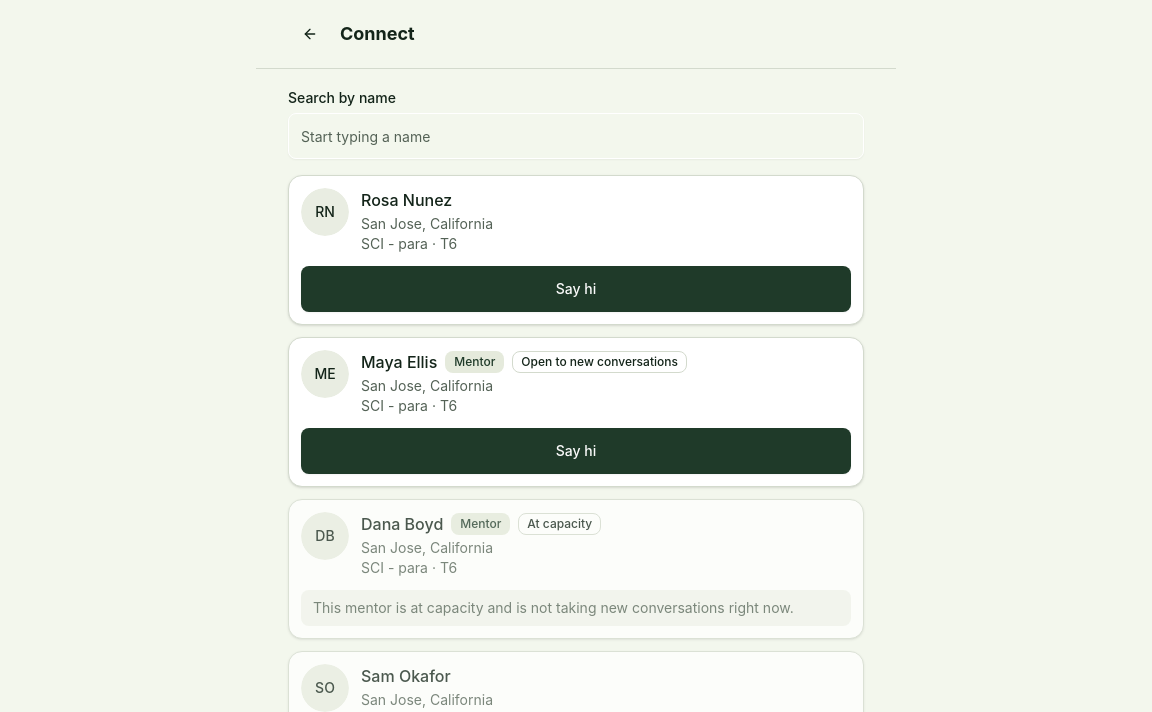
it: ConnectPage › keeps "Say hi" to a single tap, with nothing to fill in
Click the button with aria-label "Say hi to Rosa Nunez" at (576, 289), box [301,266,851,312]
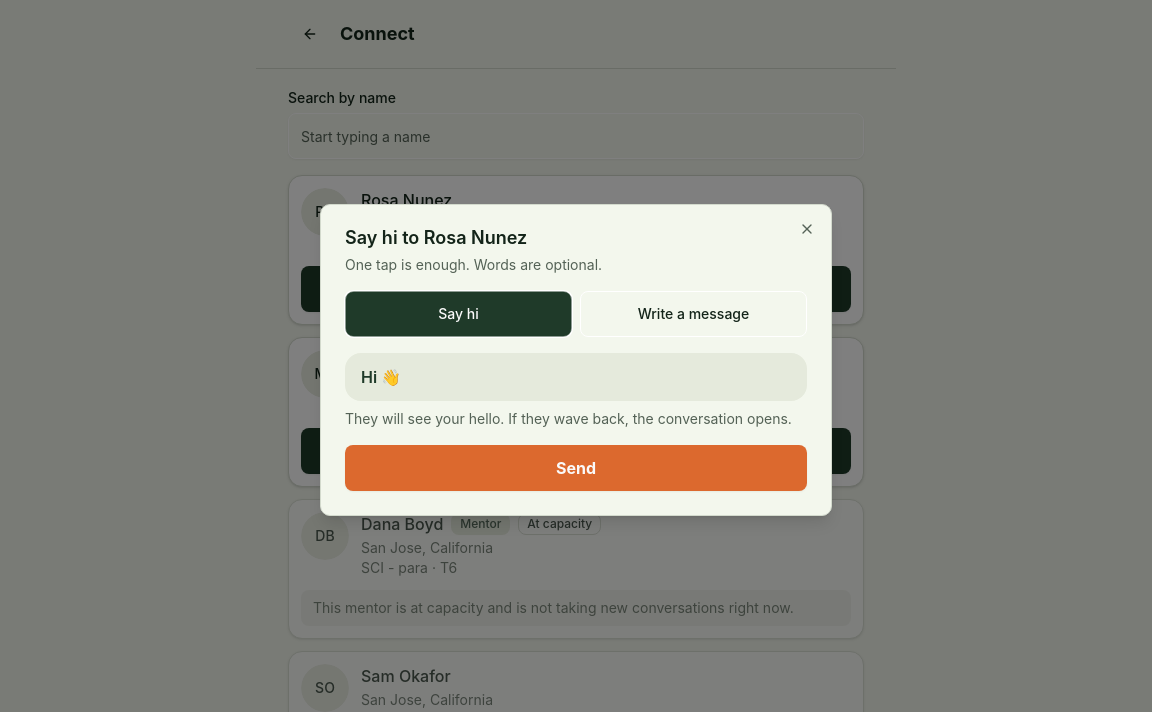
Now the text "Hi 👋" is shown, box [345,353,807,401]
